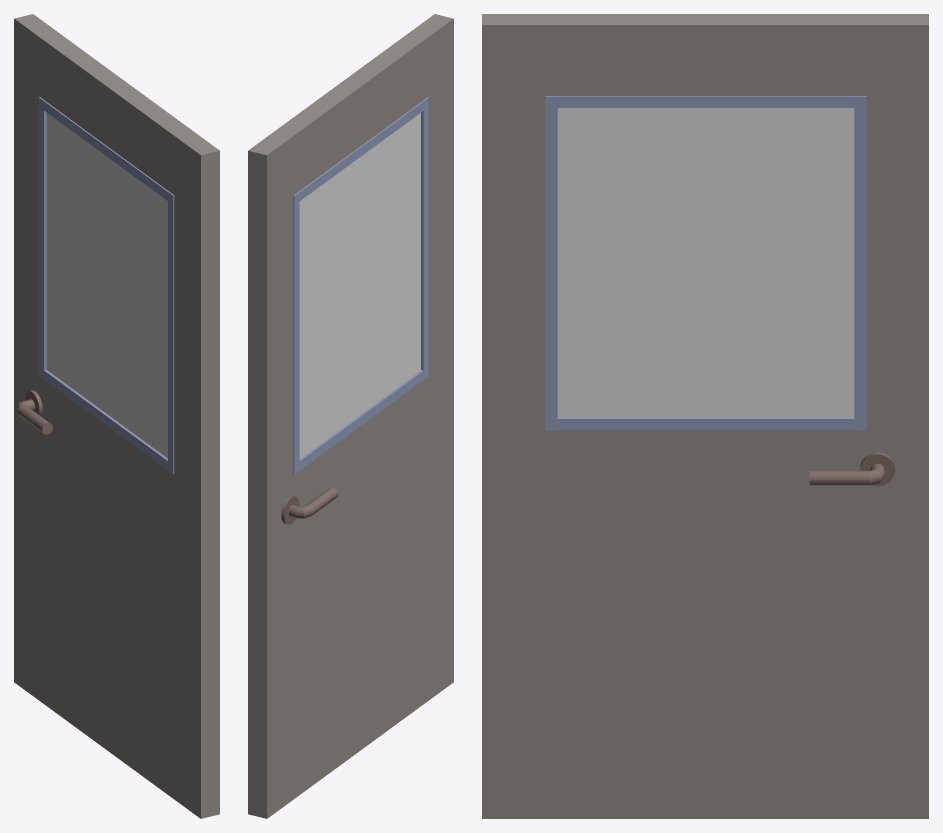
The model's file is door.fbx.
3 views of the same model, side by side, from view 1: azimuth 30°, elevation 25°; view 2: azimuth 150°, elevation 25°; view 3: azimuth 270°, elevation 25° (orthographic). The views are drawn at different scales.
Visible parts, largest first — view 1: 立方体, 立方体.002, 立方体.005, 円; view 2: 立方体, 立方体.002, 立方体.005, 円; view 3: 立方体, 立方体.002, 立方体.005, 円.001.
Part boxes in pixels (x1=…): 立方体: x1=14, y1=14, x2=219, y2=818; 立方体.002: x1=46, y1=113, x2=167, y2=458; 立方体.005: x1=39, y1=97, x2=174, y2=474; 円: x1=16, y1=390, x2=52, y2=434; 立方体: x1=248, y1=14, x2=453, y2=818; 立方体.002: x1=299, y1=113, x2=420, y2=458; 立方体.005: x1=293, y1=97, x2=428, y2=474; 円: x1=281, y1=487, x2=338, y2=524; 立方体: x1=482, y1=14, x2=928, y2=818; 立方体.002: x1=557, y1=108, x2=854, y2=417; 立方体.005: x1=545, y1=96, x2=866, y2=430; 円.001: x1=809, y1=452, x2=895, y2=486.
Size of the model in its own units: 98.69 by 1000 by 510.
